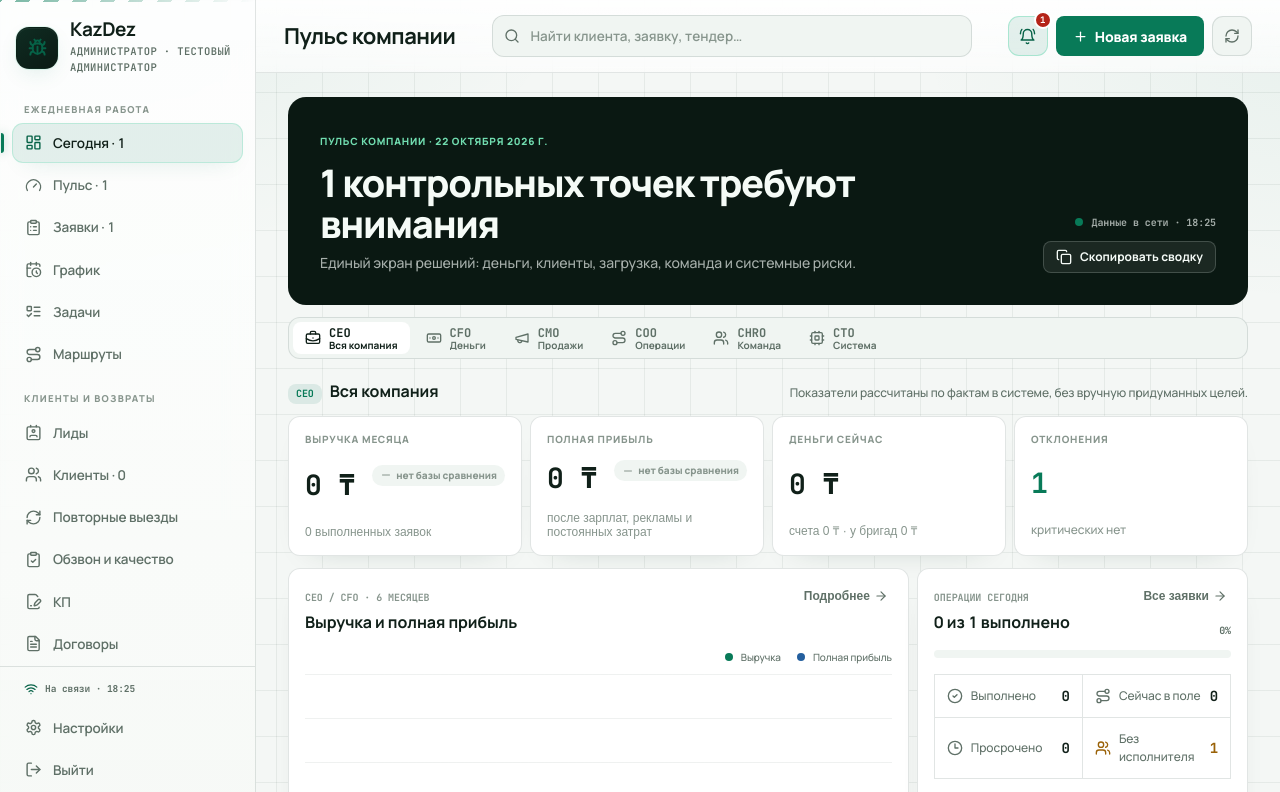
Test: keeps the previous jobs and chemical join together if report lines fail
The image size is (1280, 792).
Click the button named "Обновить данные".
click(1232, 36)  # box [1212,16,1252,56]
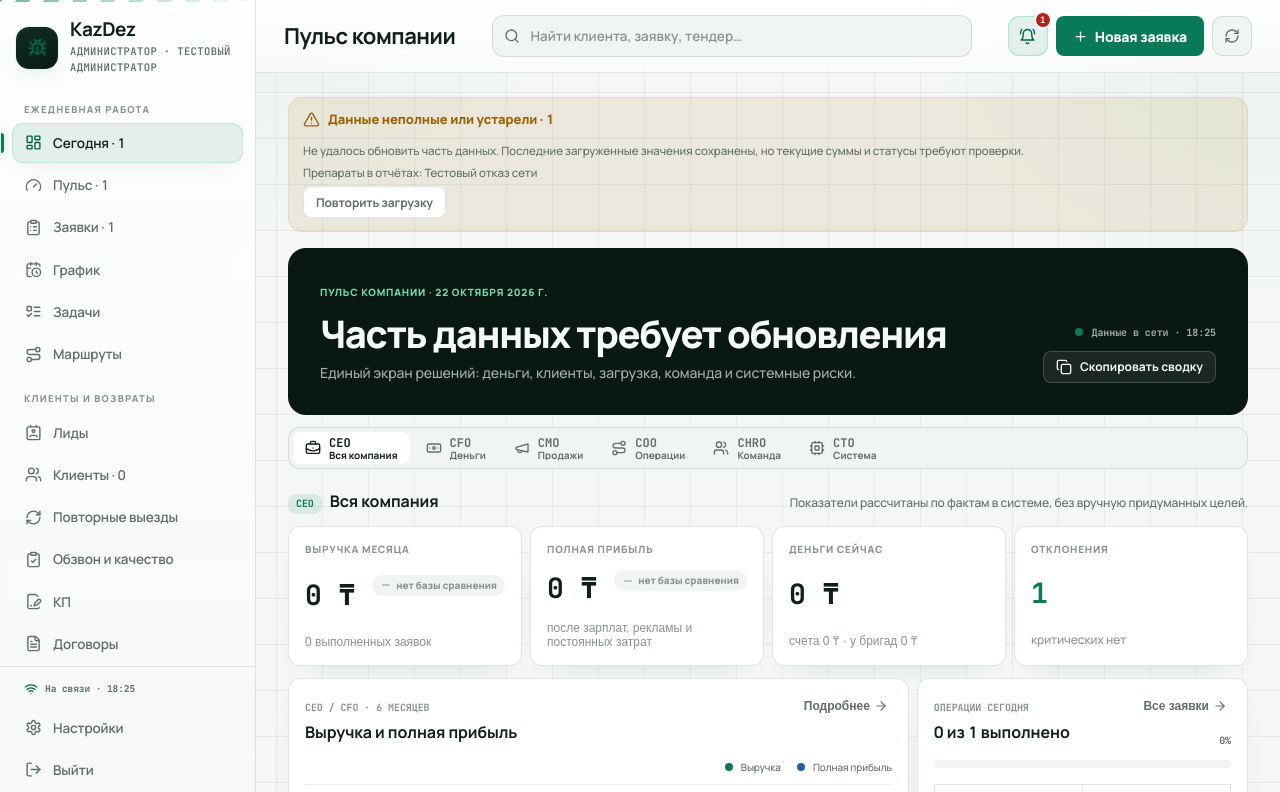
Check: the text "Данные неполные или устарели" is shown, box [303,110,554,128]
